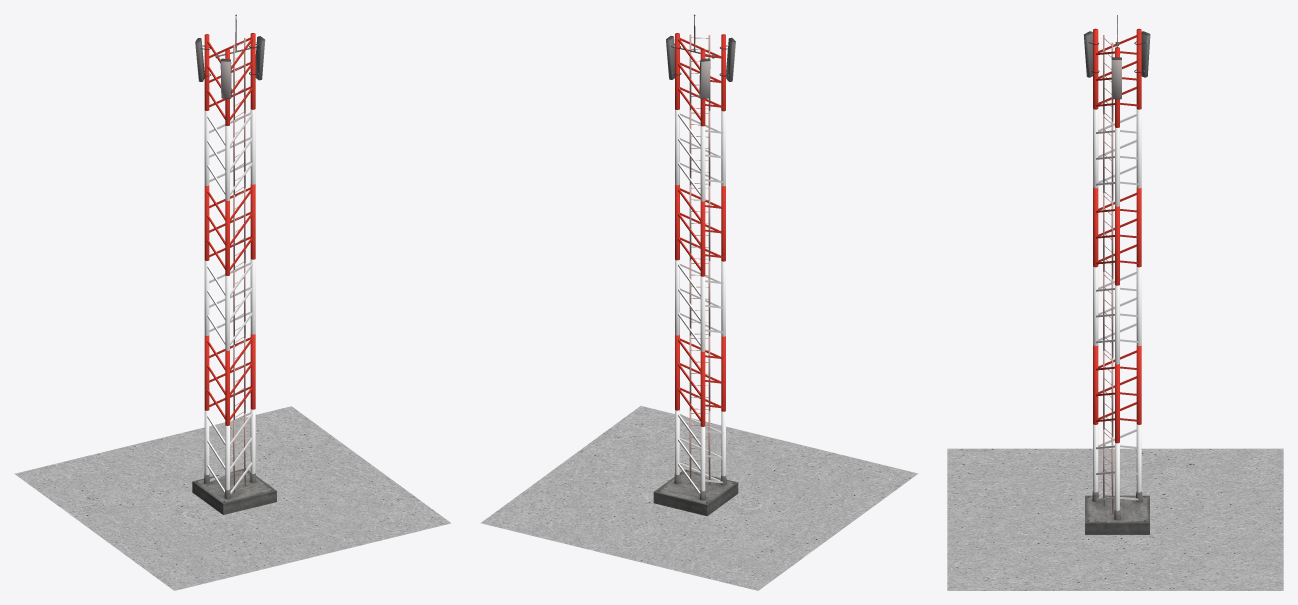
File: mast.glb
3 views of the same model, side by side, from view 1: azimuth 30°, elevation 25°; view 2: azimuth 150°, elevation 25°; view 3: azimuth 270°, elevation 25° (orthographic). The views are drawn at different scales.
Parts seen in each view (by area): view 1: m; view 2: m; view 3: m.
Boxes of the visible parts, left/top/right/bottom form: m: left=14, top=14, right=450, bottom=590; m: left=480, top=14, right=918, bottom=590; m: left=947, top=15, right=1283, bottom=590.
Size of the model in its own units: 27.61 by 46 by 27.61.
Materials: 7 (7 with a texture image).
